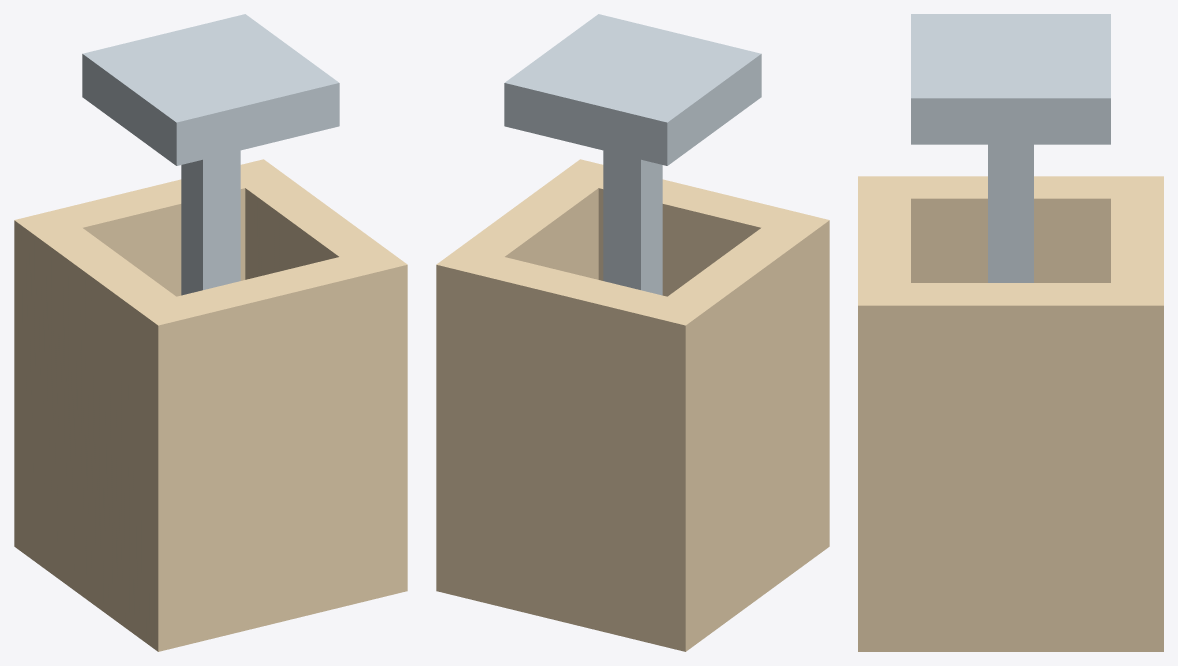
The model's file is lampSquareCeiling.glb.
3 renders of one model, left to right at view 1: azimuth 30°, elevation 25°; view 2: azimuth 150°, elevation 25°; view 3: azimuth 270°, elevation 25°, orthographic. The views are drawn at different scales.
Parts seen in each view (by area): view 1: lampSquareCeiling(Clone); view 2: lampSquareCeiling(Clone); view 3: lampSquareCeiling(Clone).
Part boxes in pixels (x1,y1,x2,y2): lampSquareCeiling(Clone): (14,14,407,651); lampSquareCeiling(Clone): (436,14,829,651); lampSquareCeiling(Clone): (858,14,1163,651).
Size of the model in its own units: 0.12 by 0.23 by 0.12.
